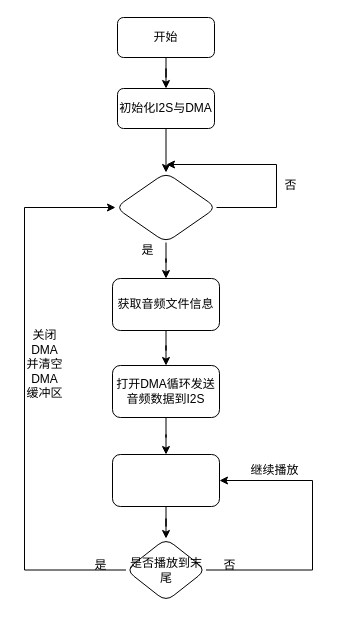
The diagram is 338 pixels wide and 619 high, and some of its shapes have lost their labels. The shapes that lost their labels are listed below. From the top down, each one's centre as x and y in pixels, then its label:
(x=165, y=207): 获取音频信号量
(x=166, y=480): 播放音频
